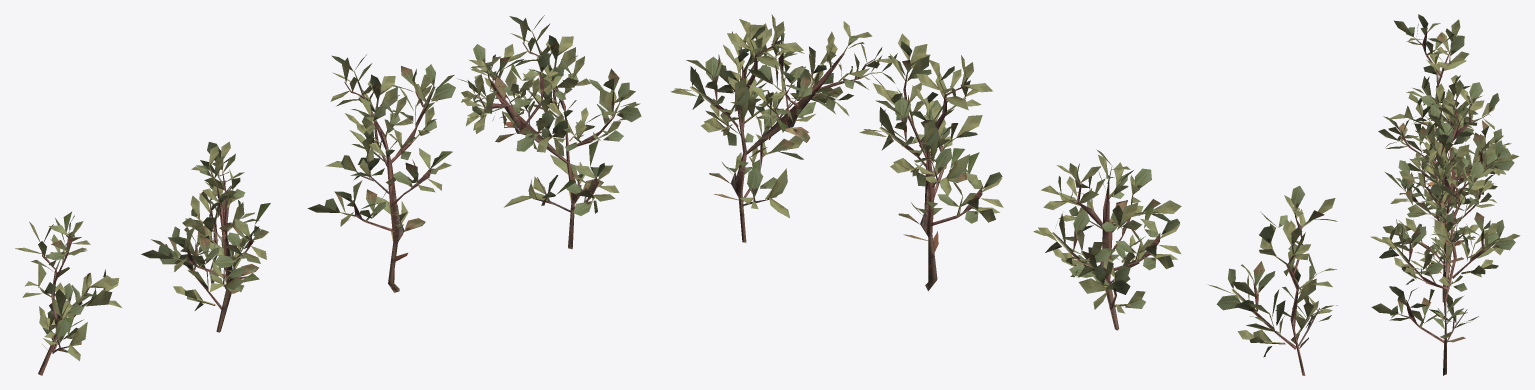
The model's file is shrub_04-near.glb.
3 renders of one model, left to right at view 1: azimuth 30°, elevation 25°; view 2: azimuth 150°, elevation 25°; view 3: azimuth 270°, elevation 25°, orthographic. The views are drawn at different scales.
Parts seen in each view (by area): view 1: shrub_04_near; view 2: shrub_04_near; view 3: shrub_04_near.
Boxes of the visible parts, box(x1,y1,x2,y2) form: shrub_04_near: box(15, 15, 641, 375); shrub_04_near: box(670, 14, 1337, 375); shrub_04_near: box(1370, 14, 1520, 375).
Bounding box in the file's own units: 2.64 × 1 × 0.6585.
1 material, 1 textured.
